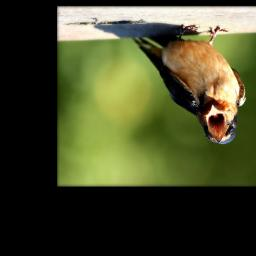Swallow: (132, 24, 248, 145)
